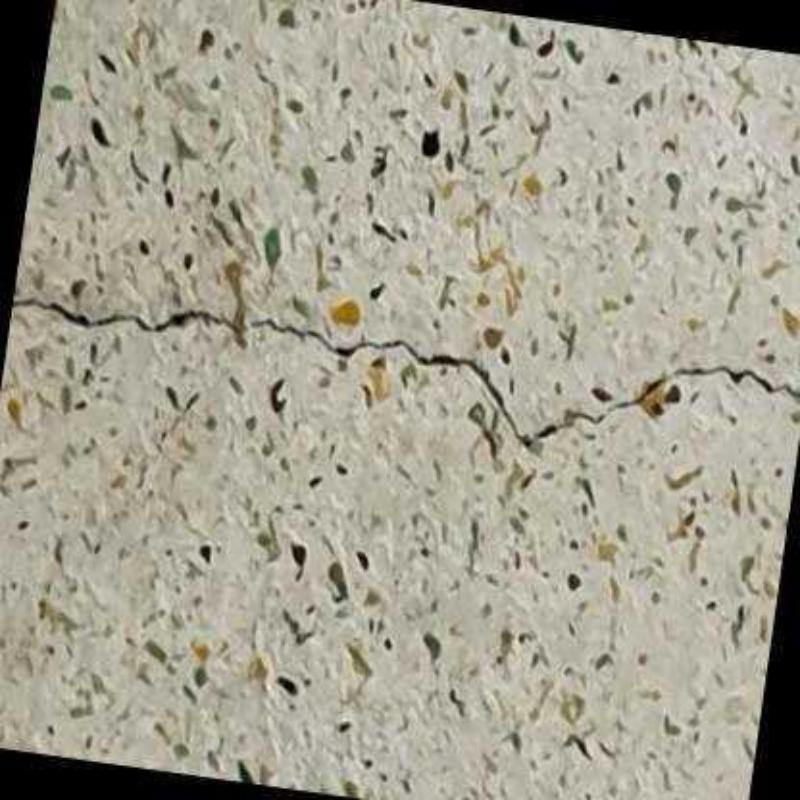crack: (9, 288, 800, 451)
